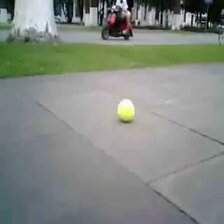tennis: (117, 99, 135, 124)
